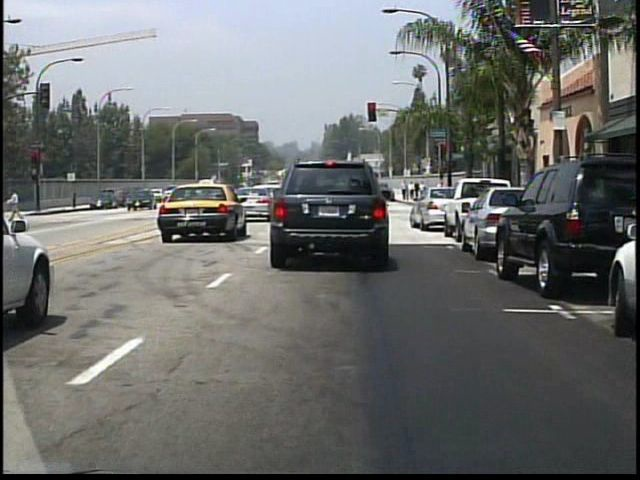person: (433, 177, 452, 214), (9, 187, 25, 222), (409, 180, 417, 202), (401, 179, 408, 201), (419, 182, 427, 200)
